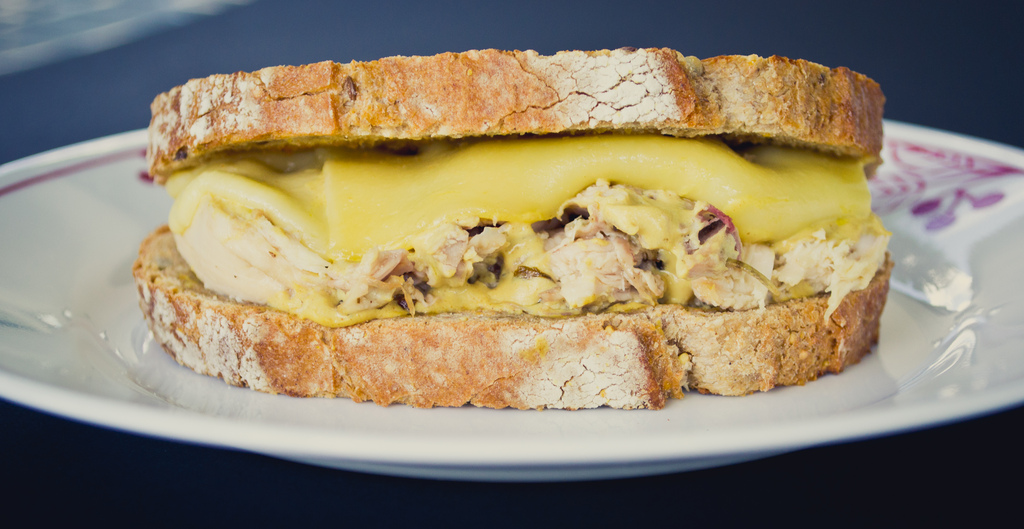slice of bread: (137, 293, 898, 412), (151, 45, 886, 162)
